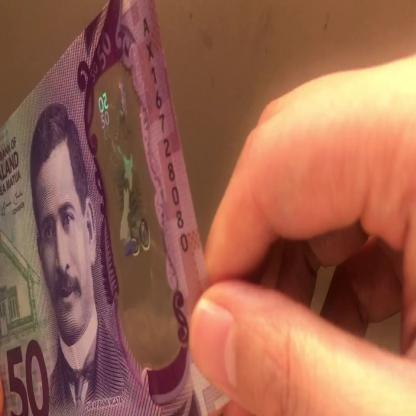50F: (95, 80, 162, 342)
